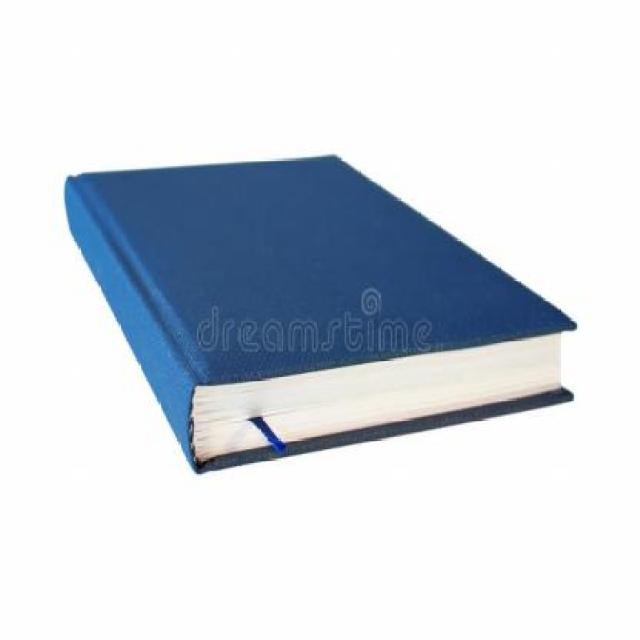book: (57, 67, 576, 534)
